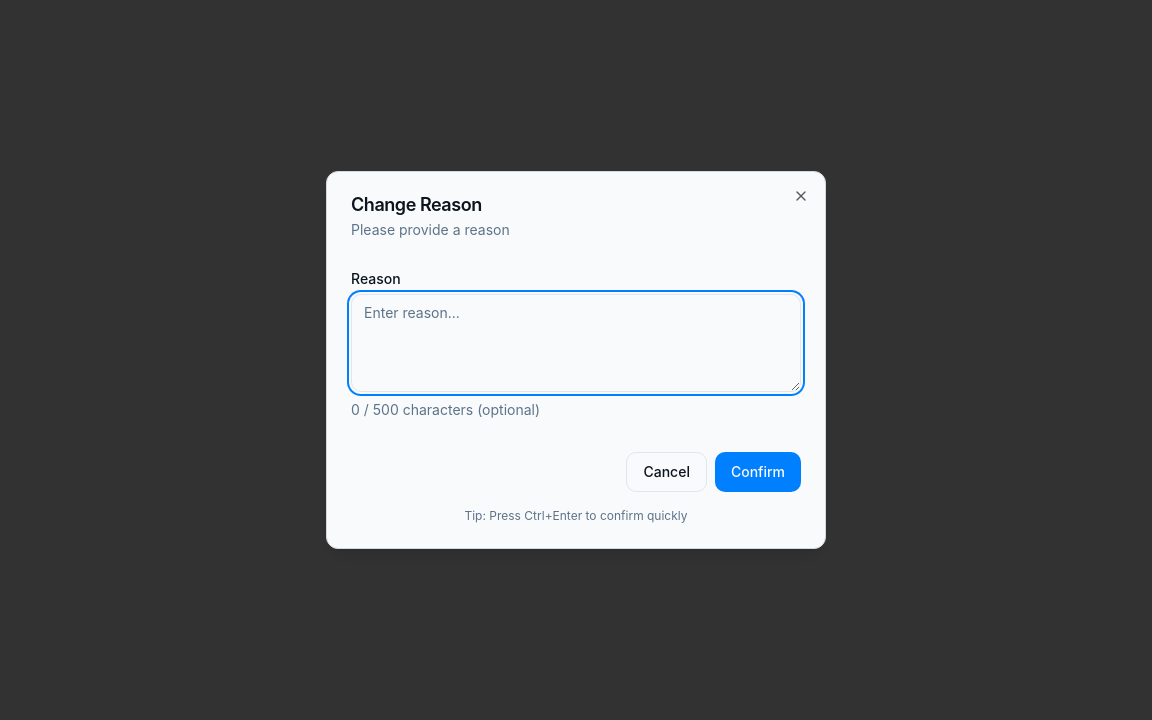
Test: AuditReasonDialog › validates minimum length
In the text box with placeholder "Enter reason...": [576, 343] box [351,294,801,392], type "Hi"
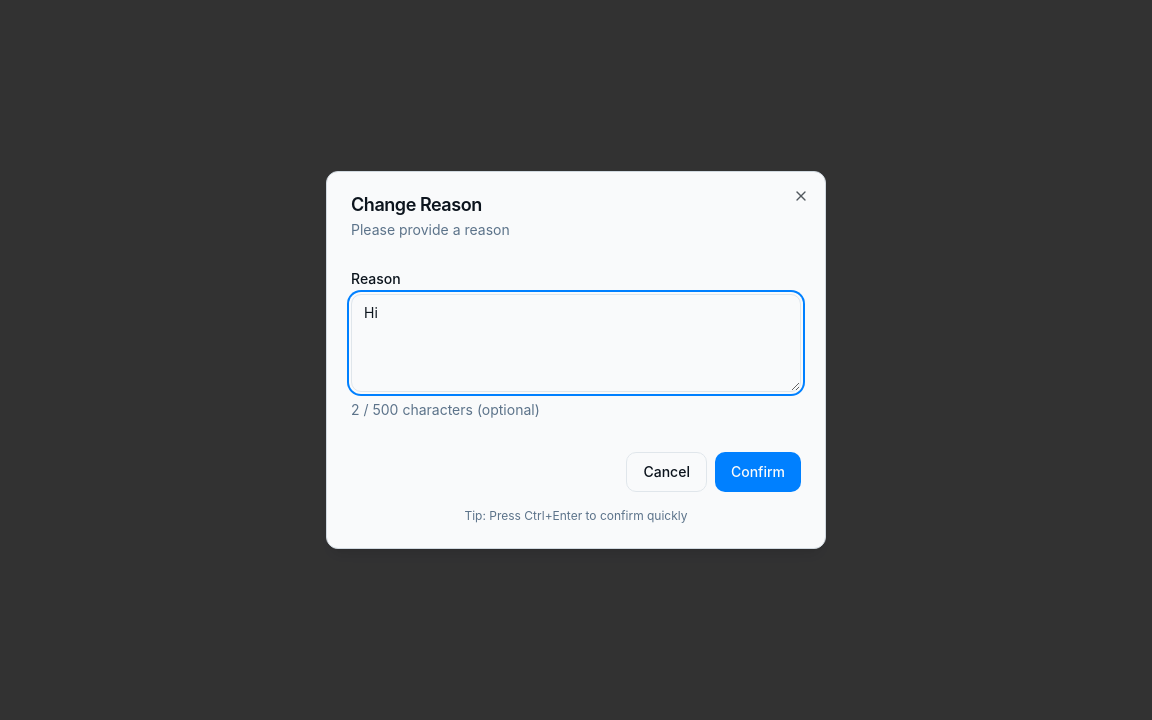
Click the button "Confirm": [758, 472] box [715,452,801,492]
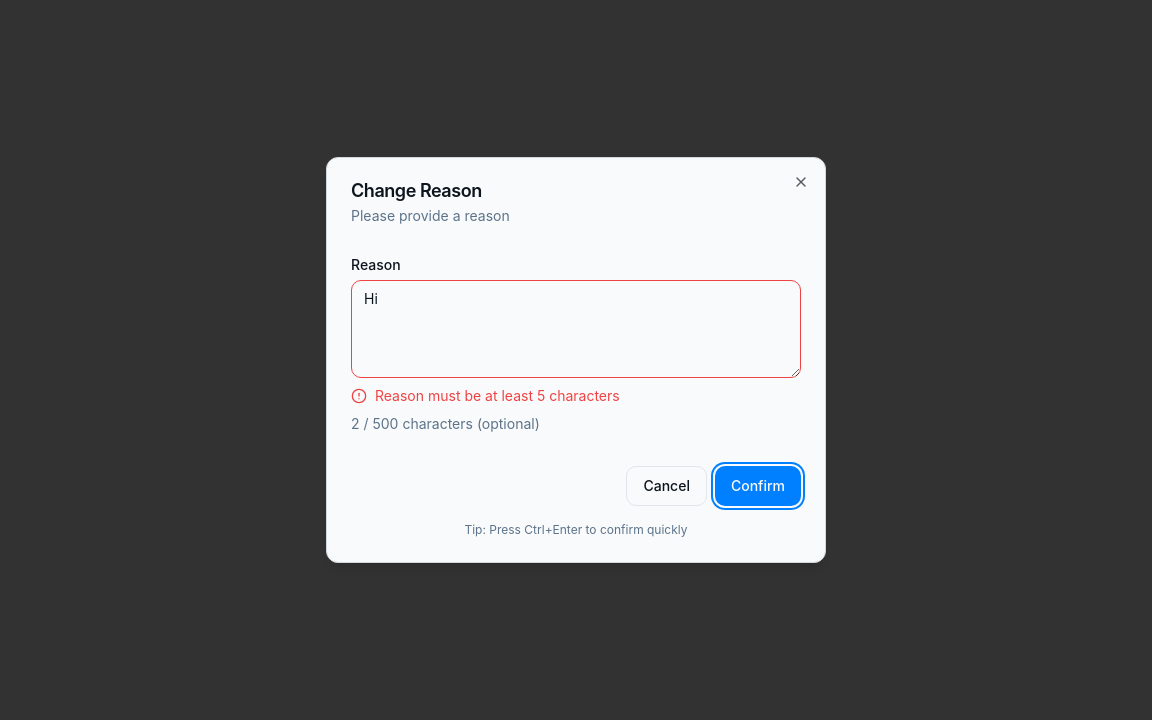
expect the text "Reason must be at least 5 characters" is shown: met, box [375,386,620,406]
